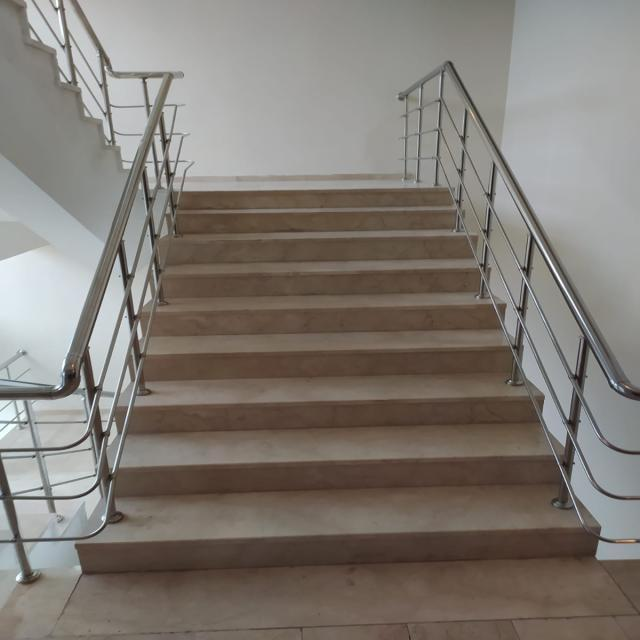stairs: (74, 182, 602, 573)
